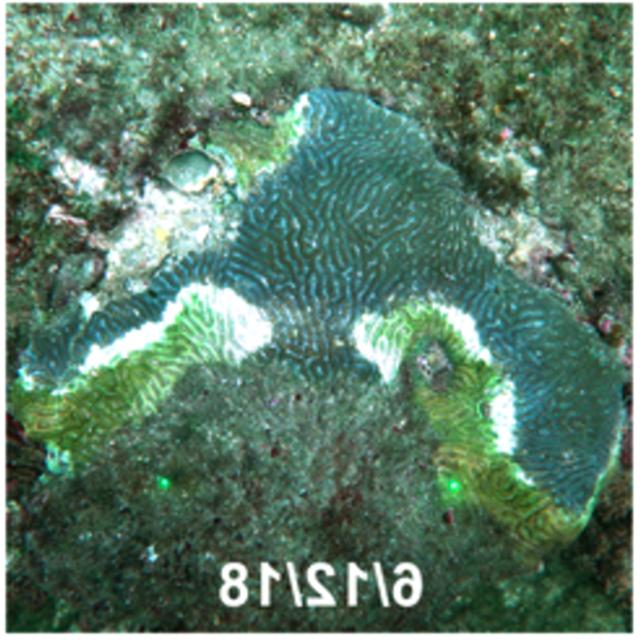Coral: (9, 86, 628, 559)
